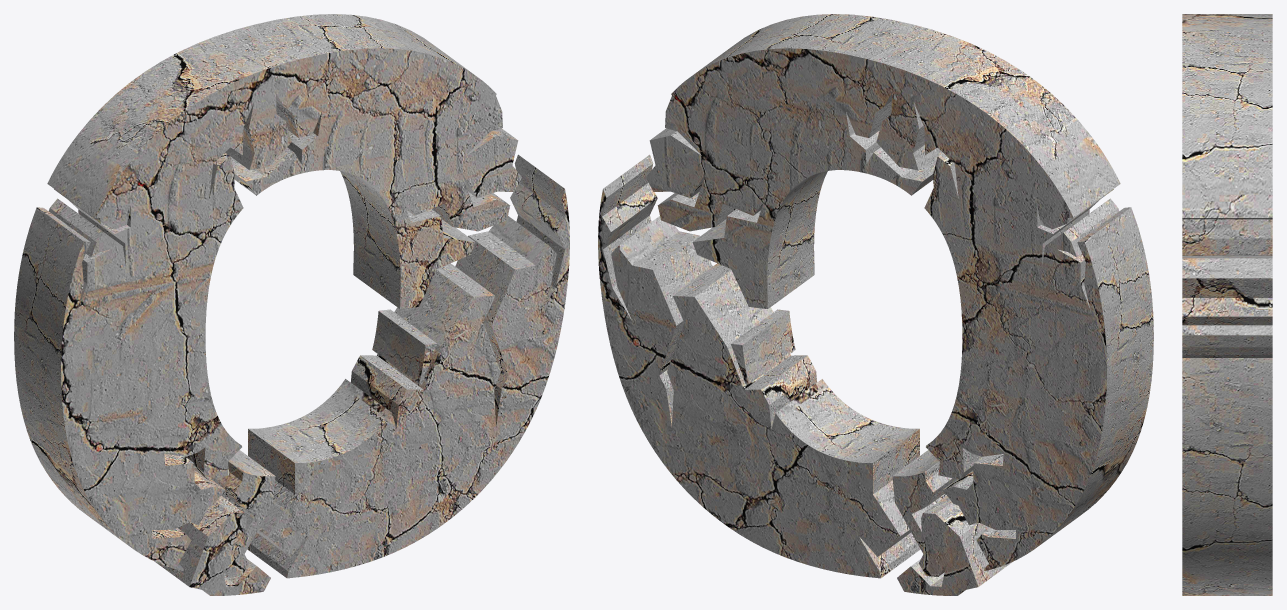
The picture shows the model from 3 angles, left to right: view 1: azimuth 30°, elevation 25°; view 2: azimuth 150°, elevation 25°; view 3: azimuth 270°, elevation 25°; orthographic projection. The views are drawn at different scales.
Visible parts, largest first — view 1: O; view 2: O; view 3: O.
Boxes of the visible parts, x1=… form: O: x1=14, y1=14, x2=569, y2=595; O: x1=598, y1=14, x2=1153, y2=595; O: x1=1182, y1=14, x2=1272, y2=595.
Bounding box in the file's own units: 93.94 × 92.38 × 15.
1 material, 1 textured.
